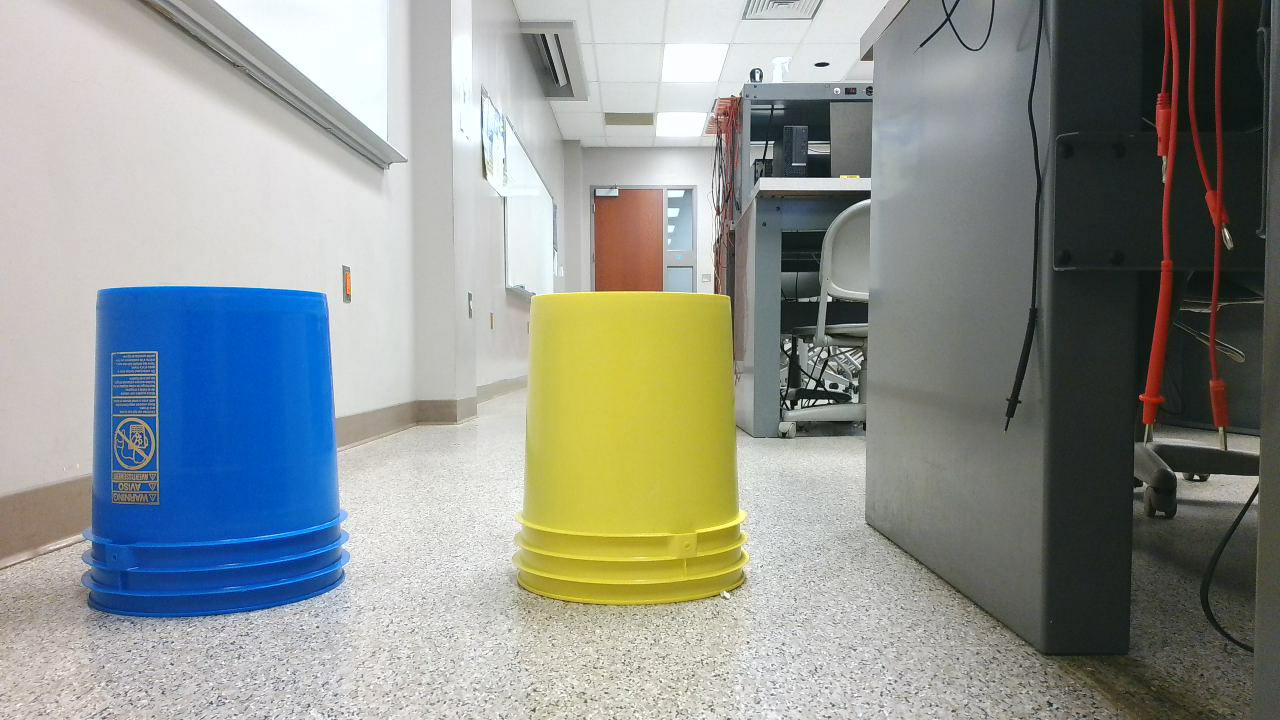blue_bucket: (81, 287, 360, 629)
yellow_bucket: (514, 291, 759, 615)
